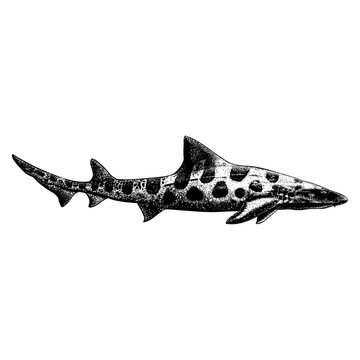Leopard Shark: (9, 127, 353, 256)
